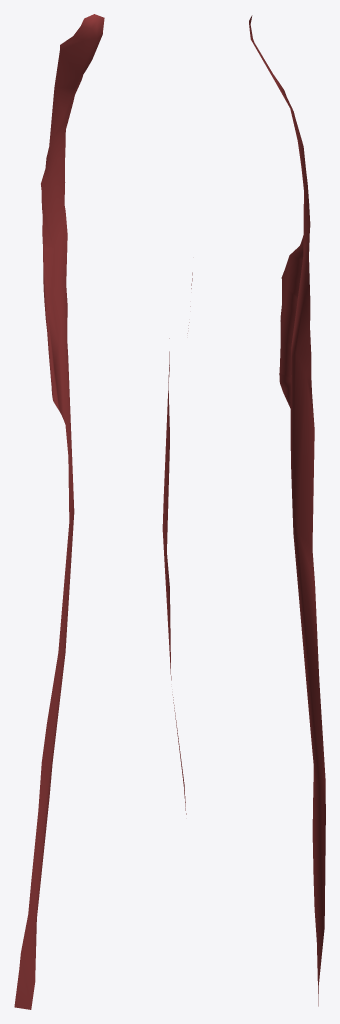
Rendered from extensor-digitorum-longus-o1l.glb.
3 views of the same model, side by side, from view 1: azimuth 30°, elevation 25°; view 2: azimuth 210°, elevation 25°; view 3: azimuth 270°, elevation 25° (orthographic). The views are drawn at different scales.
Visible parts, largest first — view 1: Extensor digitorum longus.o1l; view 2: Extensor digitorum longus.o1l; view 3: Extensor digitorum longus.o1l.
Part boxes in pixels (left/top/right/bottom): Extensor digitorum longus.o1l: left=14, top=14, right=104, bottom=1009; Extensor digitorum longus.o1l: left=162, top=272, right=192, bottom=814; Extensor digitorum longus.o1l: left=249, top=15, right=325, bottom=1006.
Bounding box in the file's own units: 0.0138 × 0.2445 × 0.0169.
